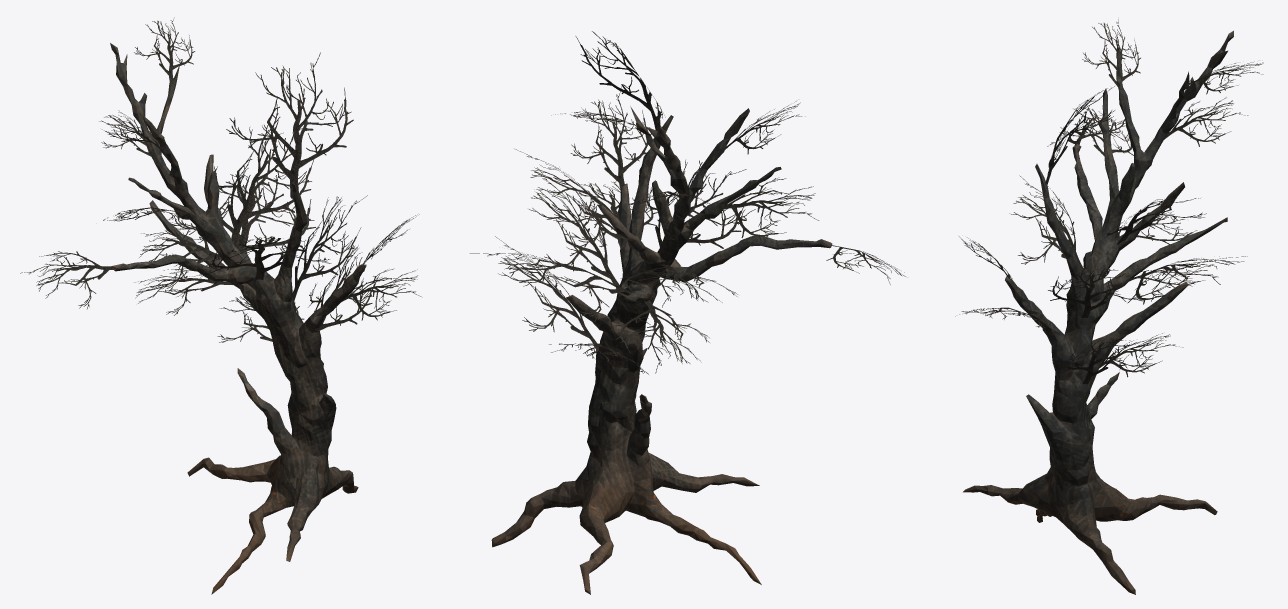
The model's file is tree3.glb.
3 renders of one model, left to right at view 1: azimuth 30°, elevation 25°; view 2: azimuth 150°, elevation 25°; view 3: azimuth 270°, elevation 25°, orthographic. The views are drawn at different scales.
Parts seen in each view (by area): view 1: Model__tree3, Model__branches; view 2: Model__tree3, Model__branches; view 3: Model__tree3, Model__branches.
Part boxes in pixels (x1,y1,x2,y2): Model__tree3: [110, 43, 366, 594]; Model__branches: [20, 17, 422, 342]; Model__tree3: [491, 106, 832, 594]; Model__branches: [469, 31, 905, 374]; Model__tree3: [963, 30, 1233, 594]; Model__branches: [955, 19, 1263, 384].
Size of the model in its own units: 3.42 by 4.33 by 2.6.
Materials: 2 (2 with a texture image).
